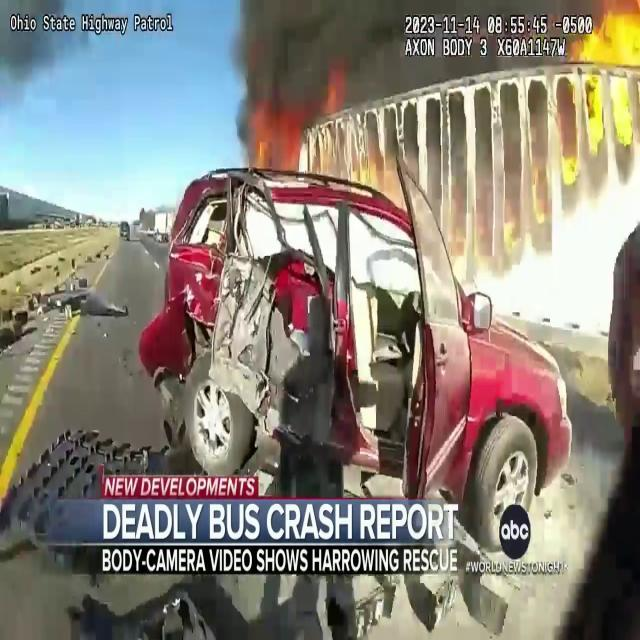Smoke: (478, 137, 640, 330), (228, 0, 410, 161)
